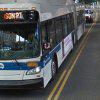Bus: (1, 4, 90, 84)
